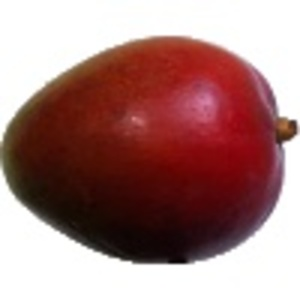manga: (1, 35, 300, 264)
